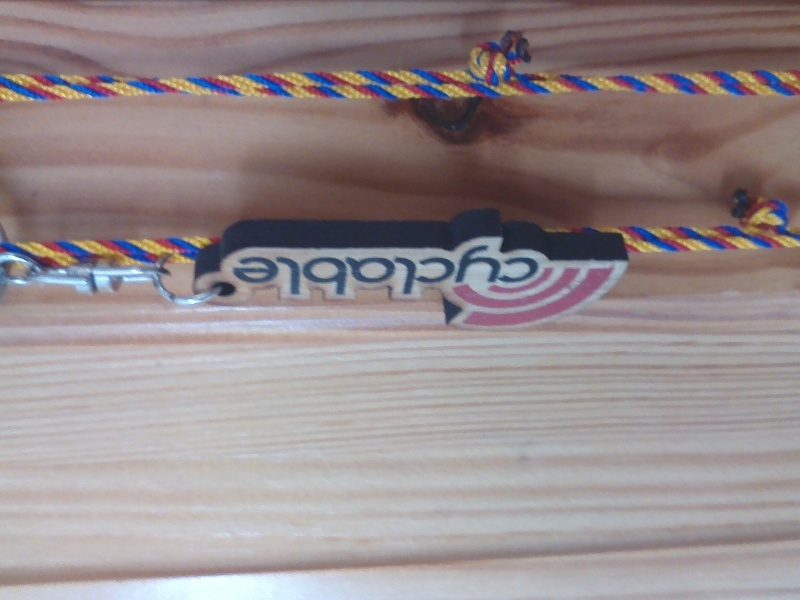text: (241, 242, 256, 298), (257, 242, 272, 298), (273, 242, 288, 298), (289, 242, 304, 298), (305, 242, 320, 298), (321, 242, 336, 298), (337, 242, 352, 298), (353, 242, 368, 298), (369, 242, 384, 298), (385, 242, 400, 298), (401, 242, 416, 298), (417, 242, 432, 298), (433, 242, 448, 298), (449, 242, 464, 298), (465, 242, 480, 298), (481, 242, 496, 298), (497, 242, 512, 298), (513, 242, 528, 298), (529, 242, 542, 298), (233, 242, 240, 298)
